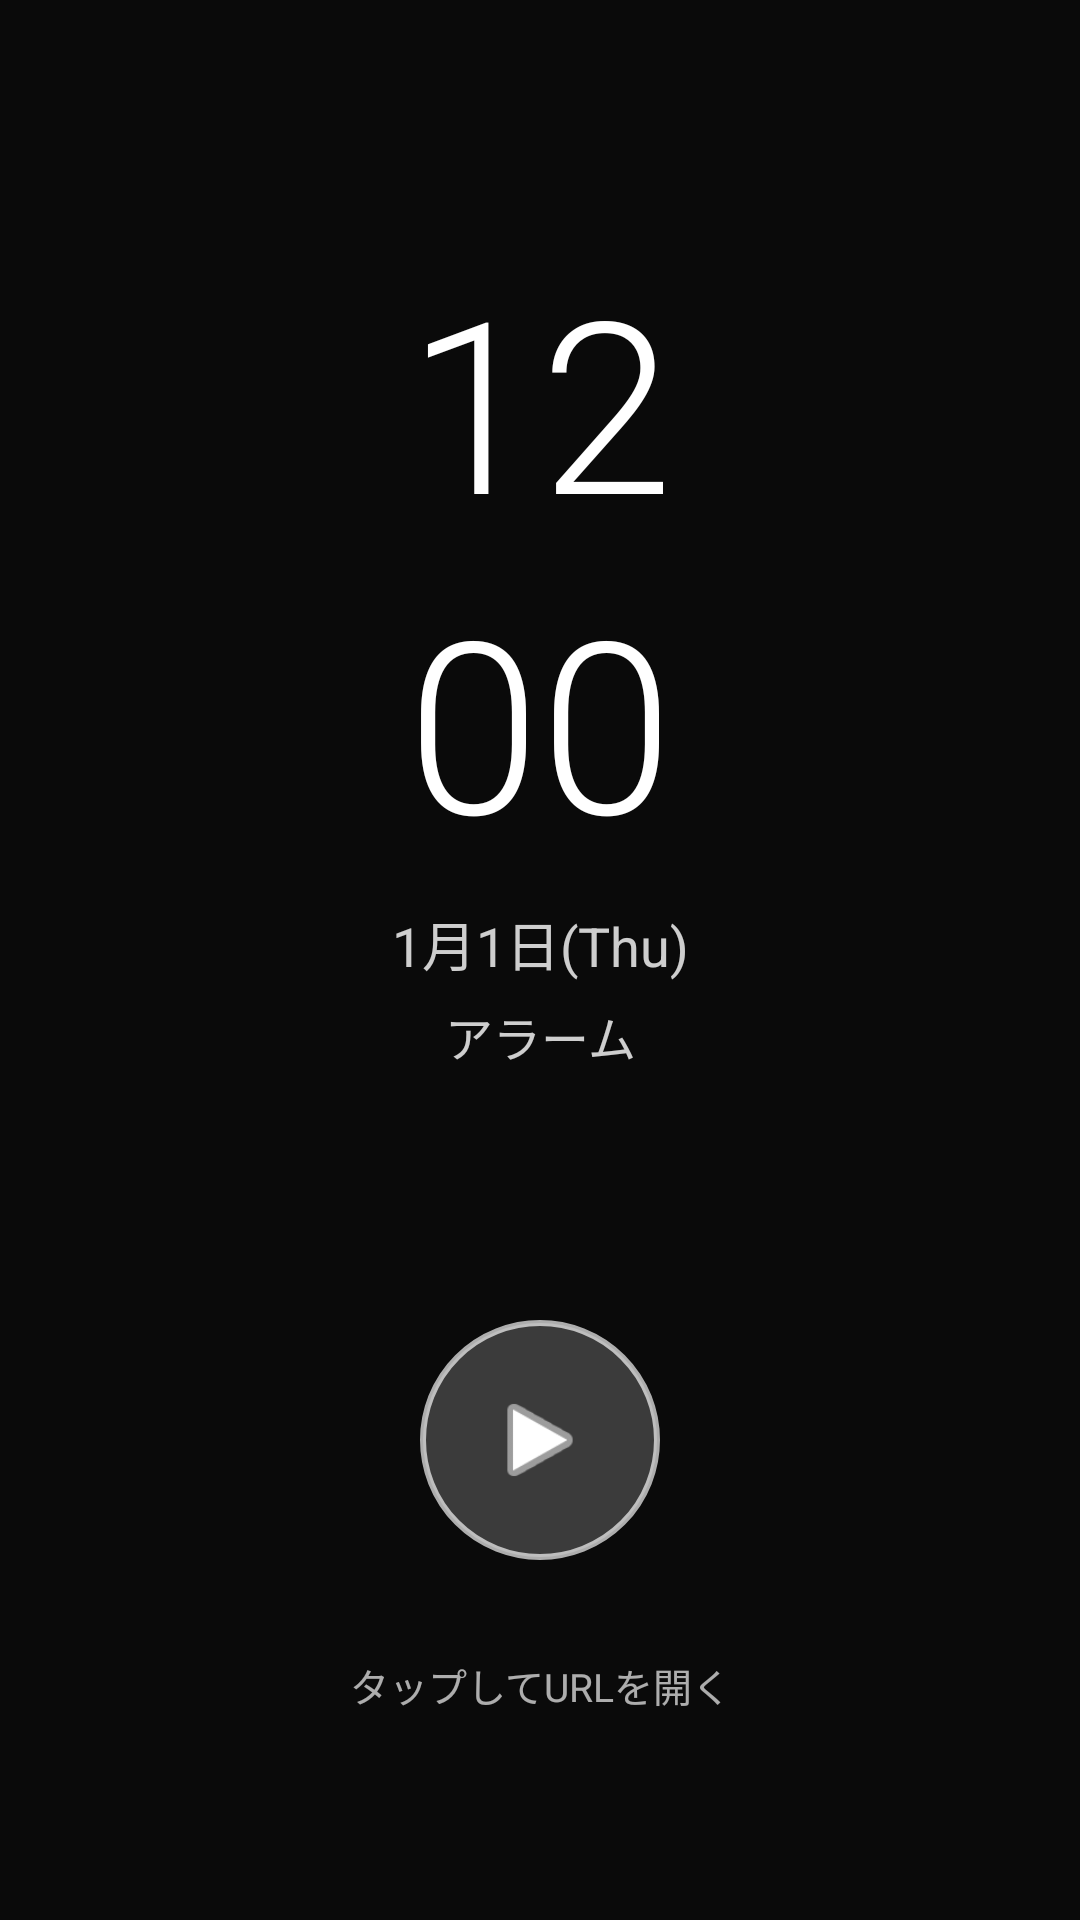

Locate icon controls on the screen. Image size 1080 x 1920, boxes as [x1,y1,x2,y2].
play: [507,1404,573,1476]
